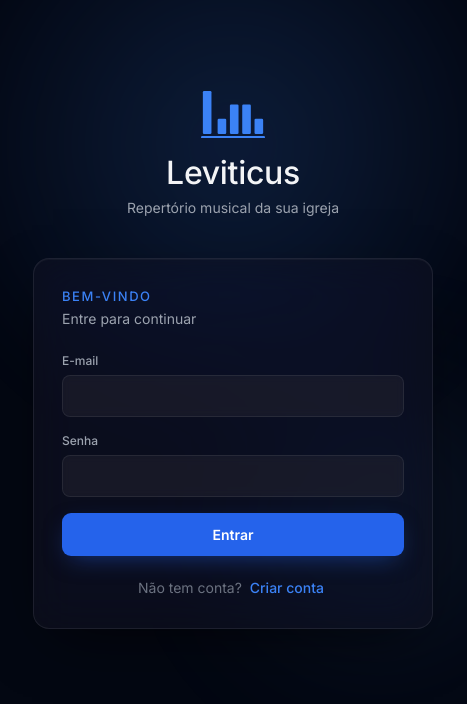
Login › sign up › shows "already registered" error when email already exists
Click the button "Criar conta" at {"x": 287, "y": 588}, box [246, 576, 328, 600]
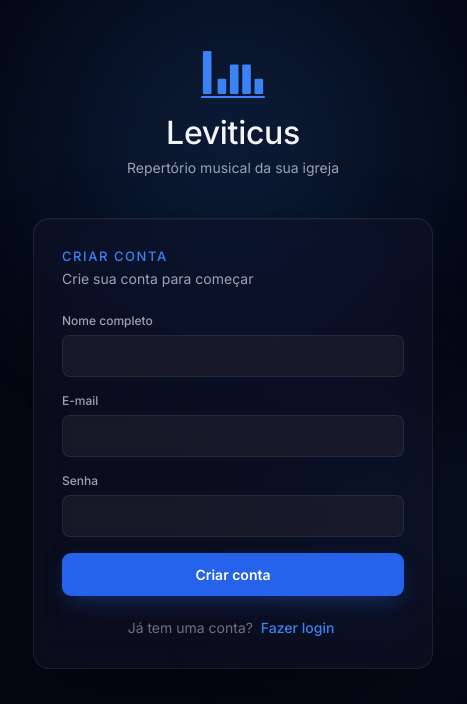
Type "João Teste" into the field labelled "Nome completo" at {"x": 233, "y": 356}, box [62, 336, 404, 378]
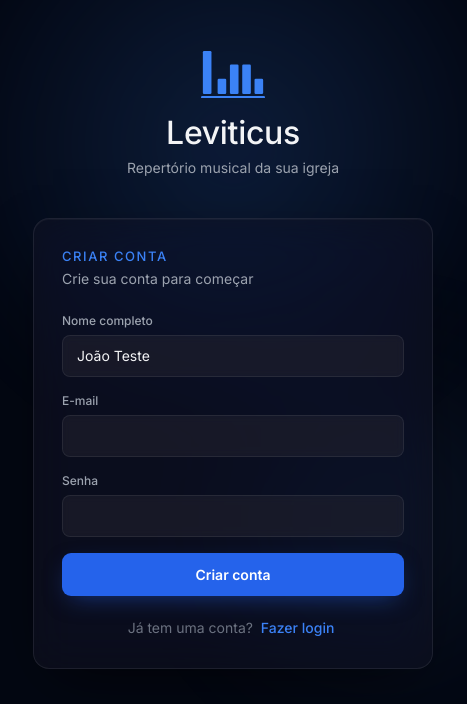
Type "novo@test.com" into the field labelled "E-mail" at {"x": 233, "y": 436}, box [62, 416, 404, 458]
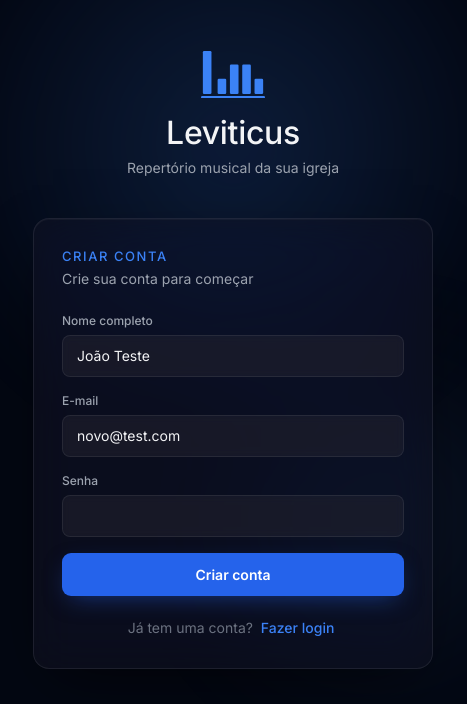
Type "senha123" into the password field labelled "Senha" at {"x": 233, "y": 516}, box [62, 496, 404, 538]
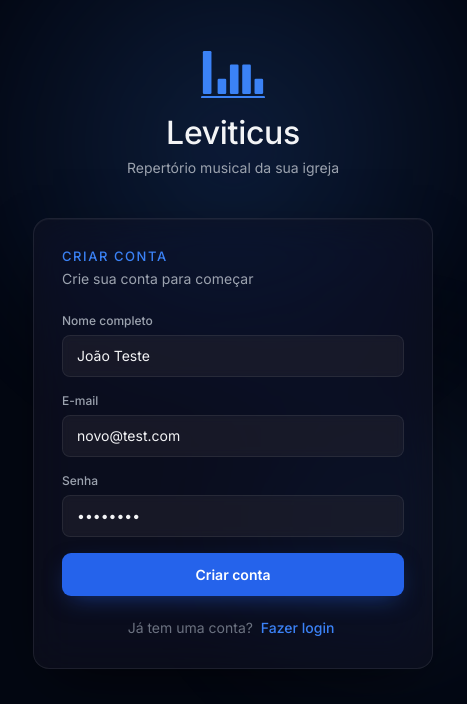
Click the button "Criar conta" at {"x": 233, "y": 575}, box [62, 554, 404, 596]
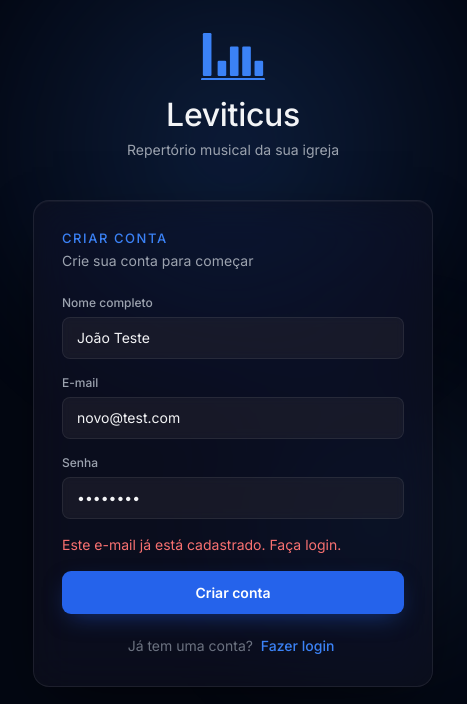
Expected: the message reads "Este e-mail já está cadastrado. Faça login.", [62, 536, 341, 554]
